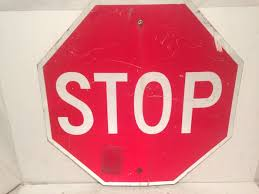Stop: (47, 1, 234, 183)
